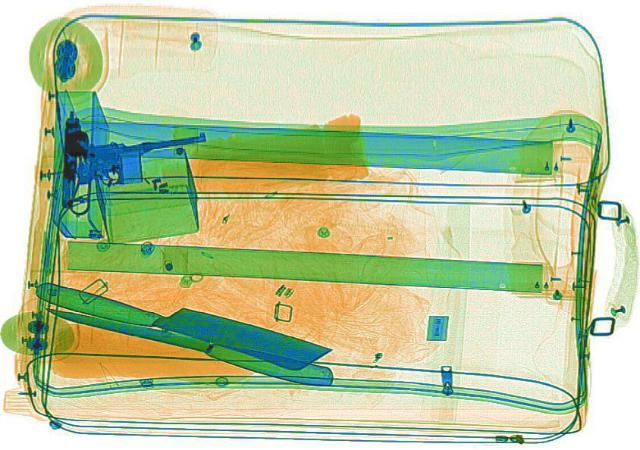Gun: (56, 131, 218, 215), (55, 114, 91, 211)
Knife: (24, 270, 333, 373), (38, 295, 338, 388)
